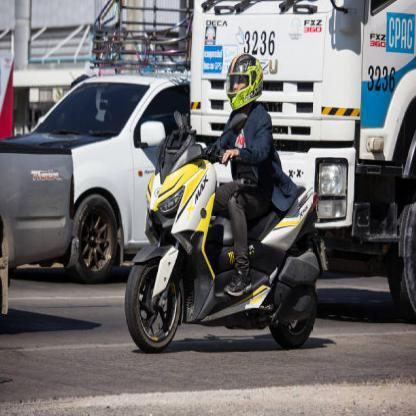Motorcycle: (126, 116, 321, 351)
